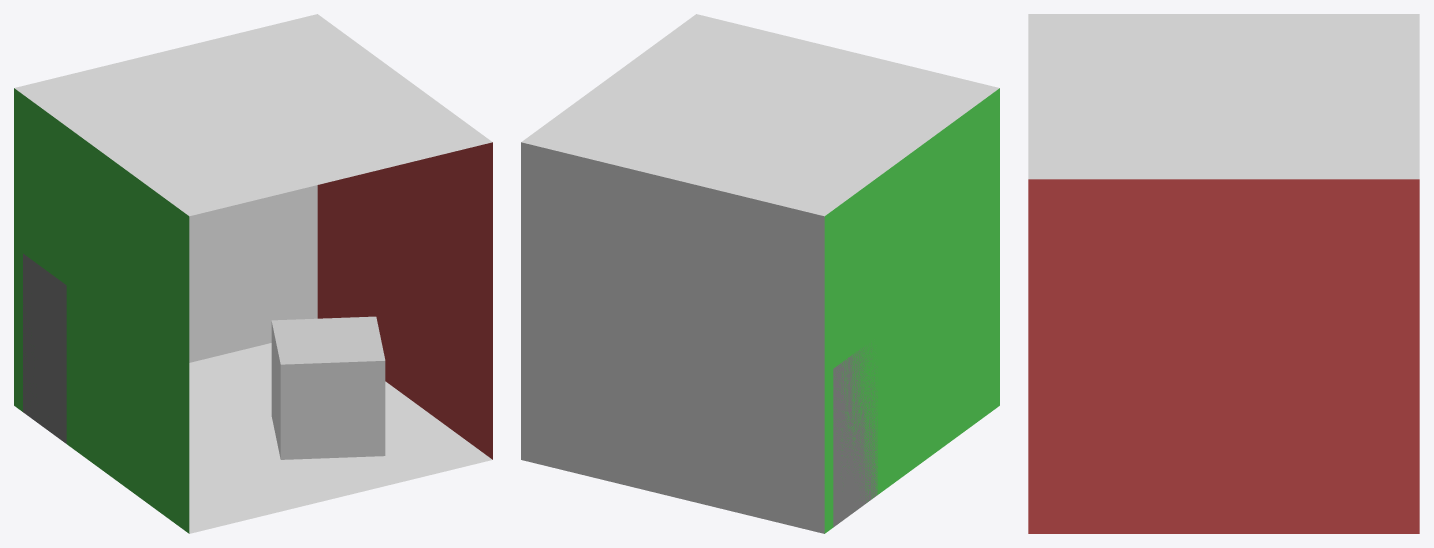
Rendered from cornell_box_with_cube.gltf.
3 views of the same model, side by side, from view 1: azimuth 30°, elevation 25°; view 2: azimuth 150°, elevation 25°; view 3: azimuth 270°, elevation 25° (orthographic). The views are drawn at different scales.
Visible parts, largest first — view 1: Ceil, LeftWall, RightWall, Floor, BackWall, Occluder, Cube; view 2: BackWall, LeftWall, Ceil, Cube; view 3: RightWall, Ceil.
Boxes of the visible parts, <box> form: Ceil: <box>14,14,492,216</box>; LeftWall: <box>14,88,189,533</box>; RightWall: <box>317,142,492,459</box>; Floor: <box>189,343,492,533</box>; BackWall: <box>189,185,317,362</box>; Occluder: <box>271,316,385,459</box>; Cube: <box>23,253,66,443</box>; BackWall: <box>521,142,824,533</box>; LeftWall: <box>824,88,999,533</box>; Ceil: <box>521,14,999,216</box>; Cube: <box>833,343,877,527</box>; RightWall: <box>1028,179,1419,533</box>; Ceil: <box>1028,14,1419,179</box>.
Bounding box in the file's own units: 4 × 4 × 4.
